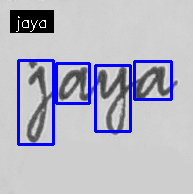a: (133, 63, 168, 102), (56, 65, 90, 102)
j: (24, 59, 50, 144)
y: (95, 64, 129, 136)
